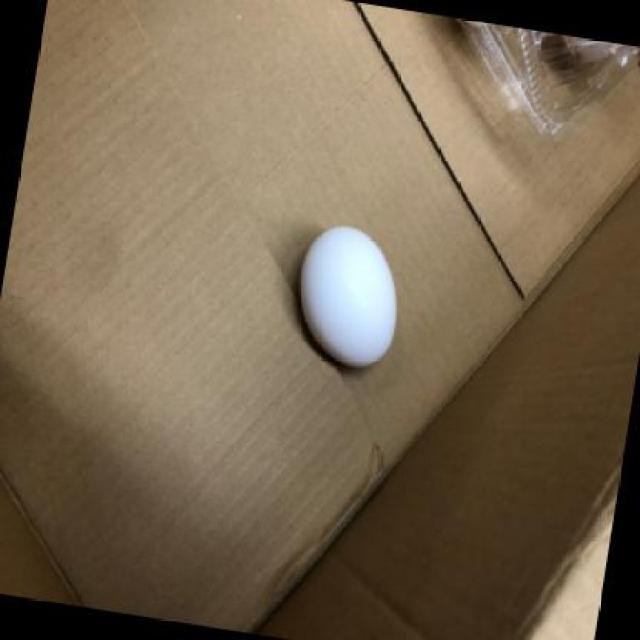egg: (294, 218, 406, 371)
